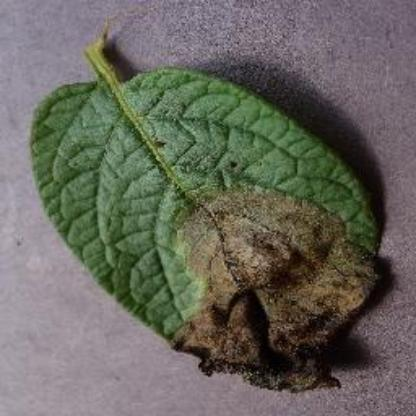Late-Blight: (29, 26, 394, 393)
